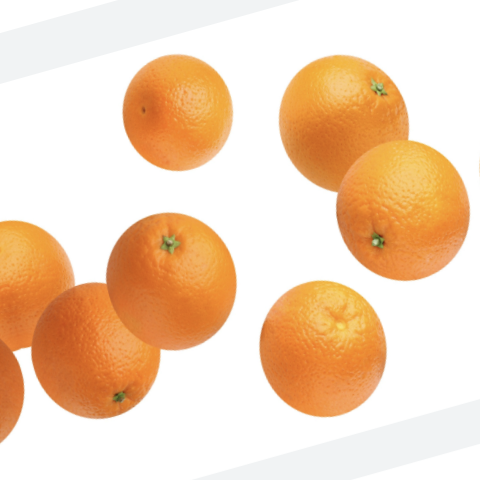orange: (12, 254, 187, 455), (223, 259, 408, 448), (313, 115, 480, 306), (259, 29, 431, 214), (84, 188, 256, 370), (103, 36, 256, 185), (0, 194, 104, 351)
